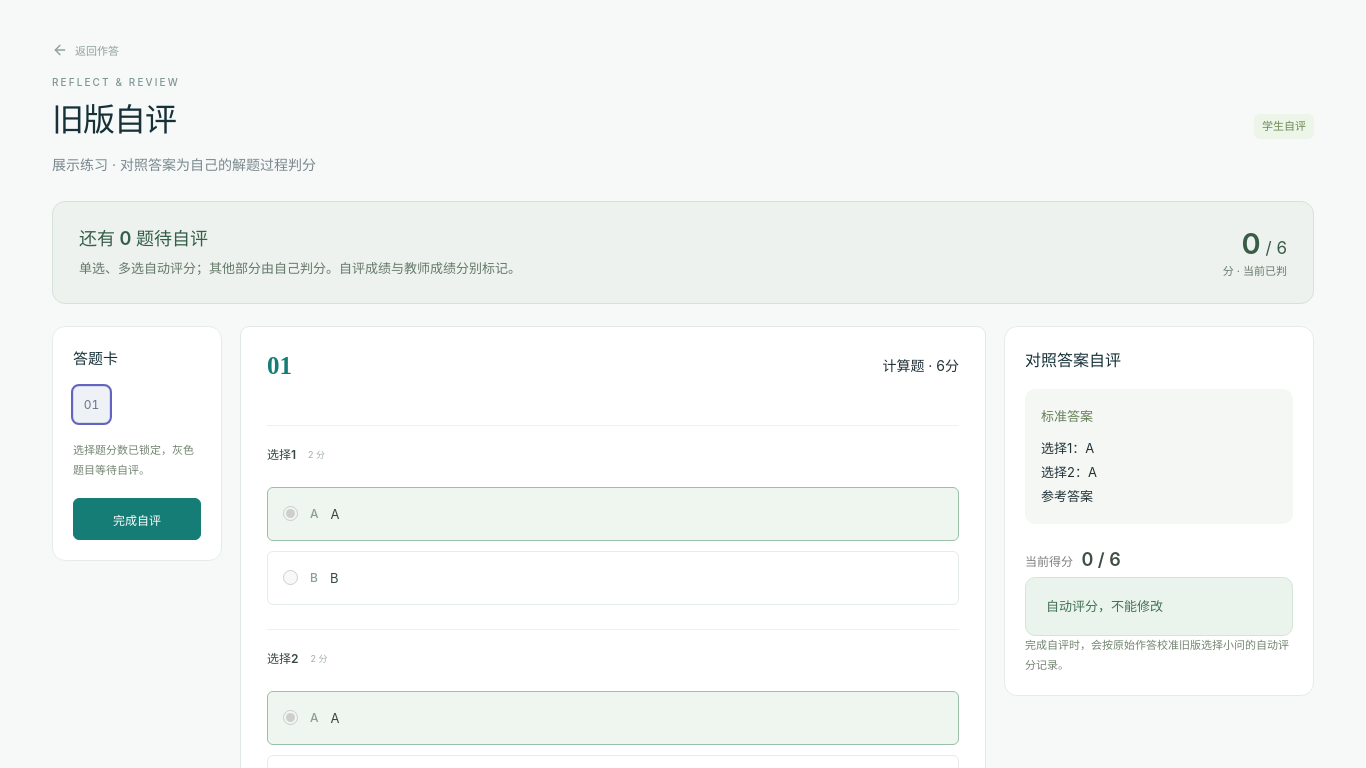
旧版仅选择小问的自评不被灰色旧成绩卡住，可完成并校准自动结果
Click the button "完成自评" at (137, 519), box [73,498,201,540]
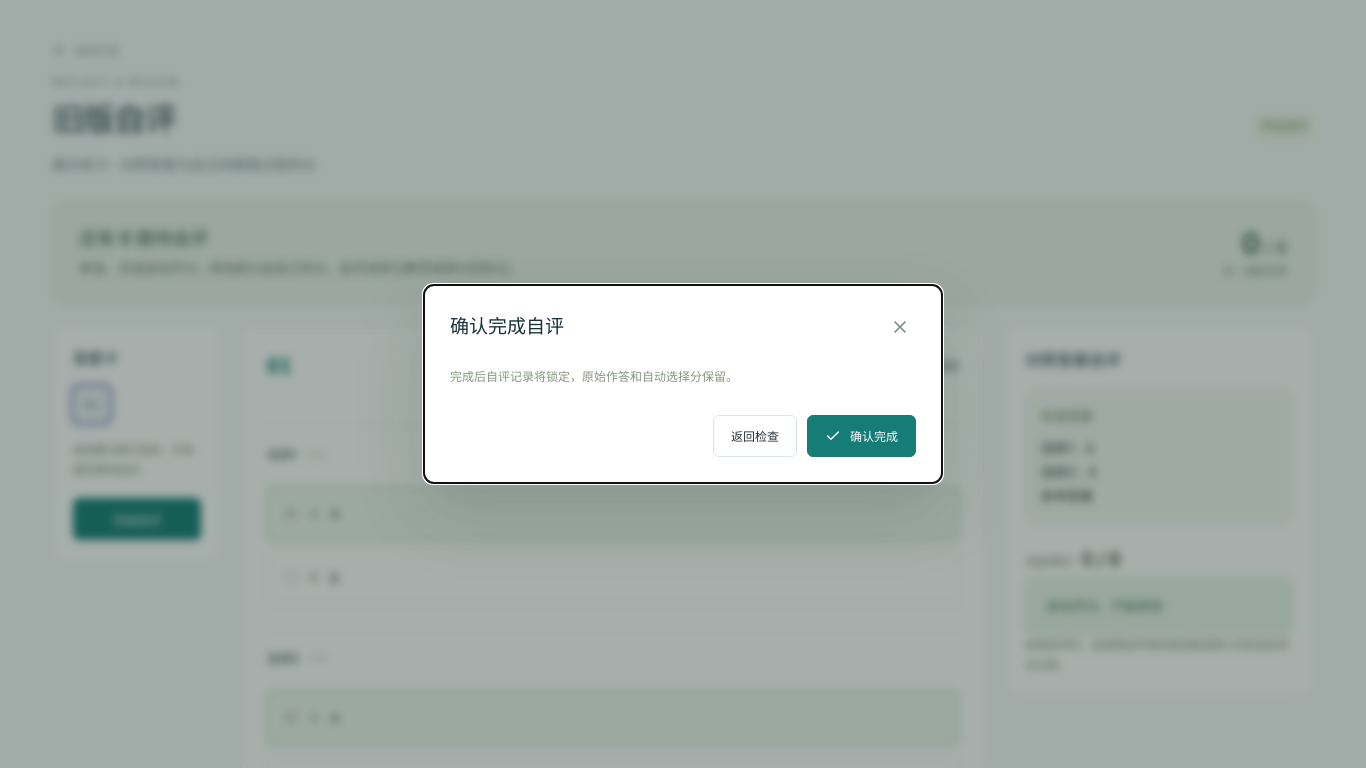
Click the button "确认完成" at (862, 436), box [807,415,916,457]
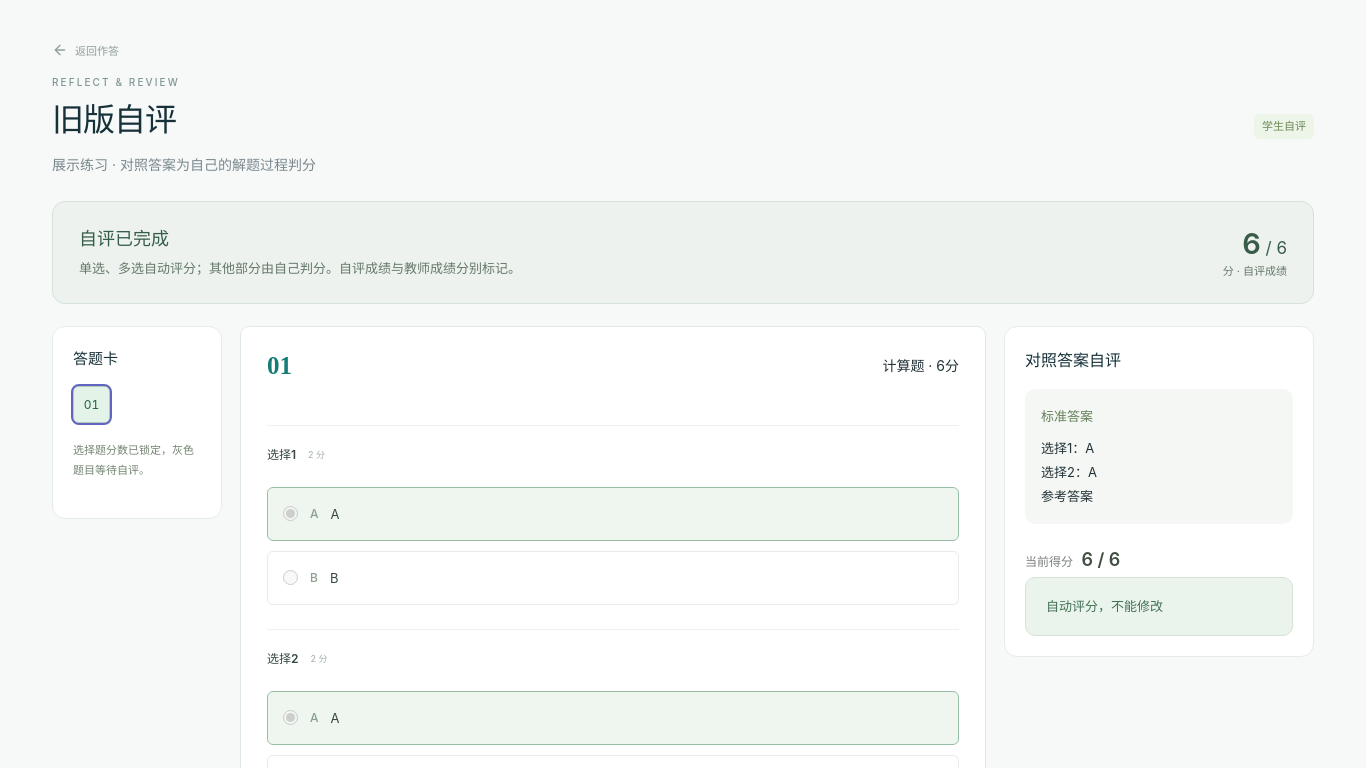
Result: the text "自评已完成" is shown at [79,228,169,249]
